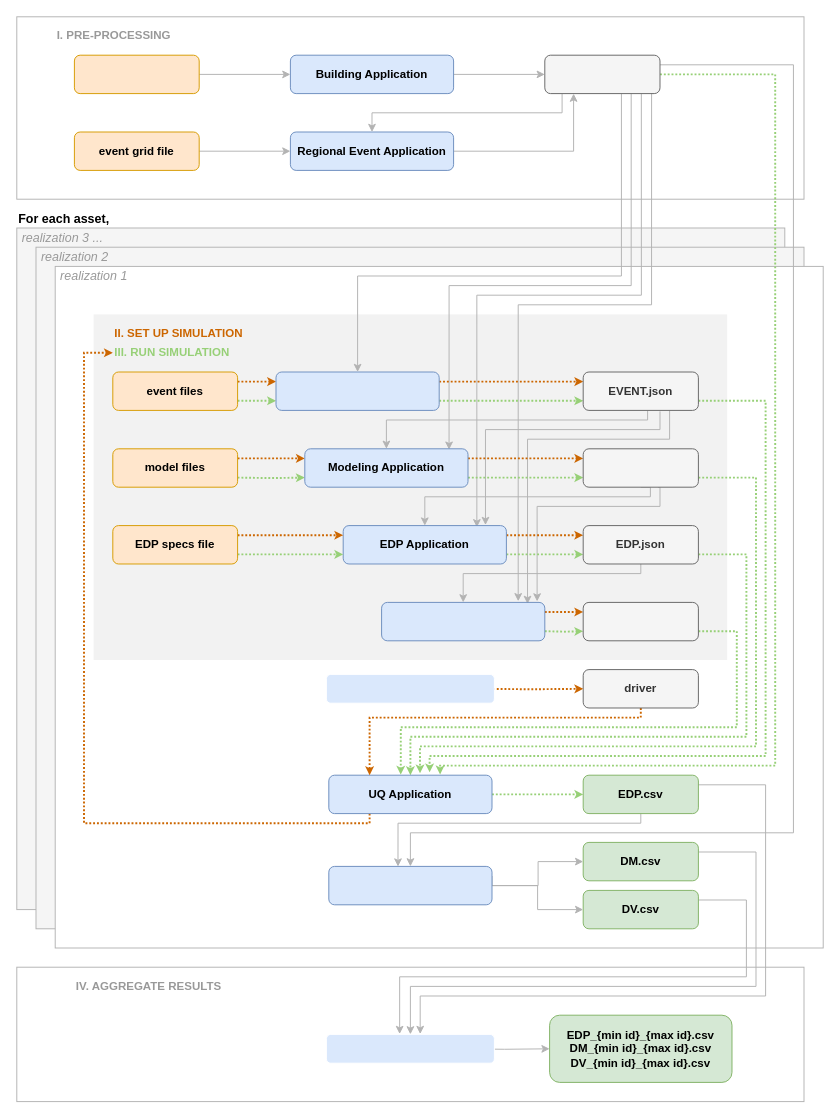
The diagram is 840 pixels wide and 1118 high, and some of its shapes have lost their labels. Here are the shapes that lost their labels. From the top down, the centre of each, then its label:
(136,74): building source file
(602,74): #-BIM.json
(357,390): Event Application
(640,467): SAM.json
(463,621): Simulation Application
(640,621): SIM.json
(409,688): Create workflow driver
(410,885): DL Application
(409,1048): Collect results
